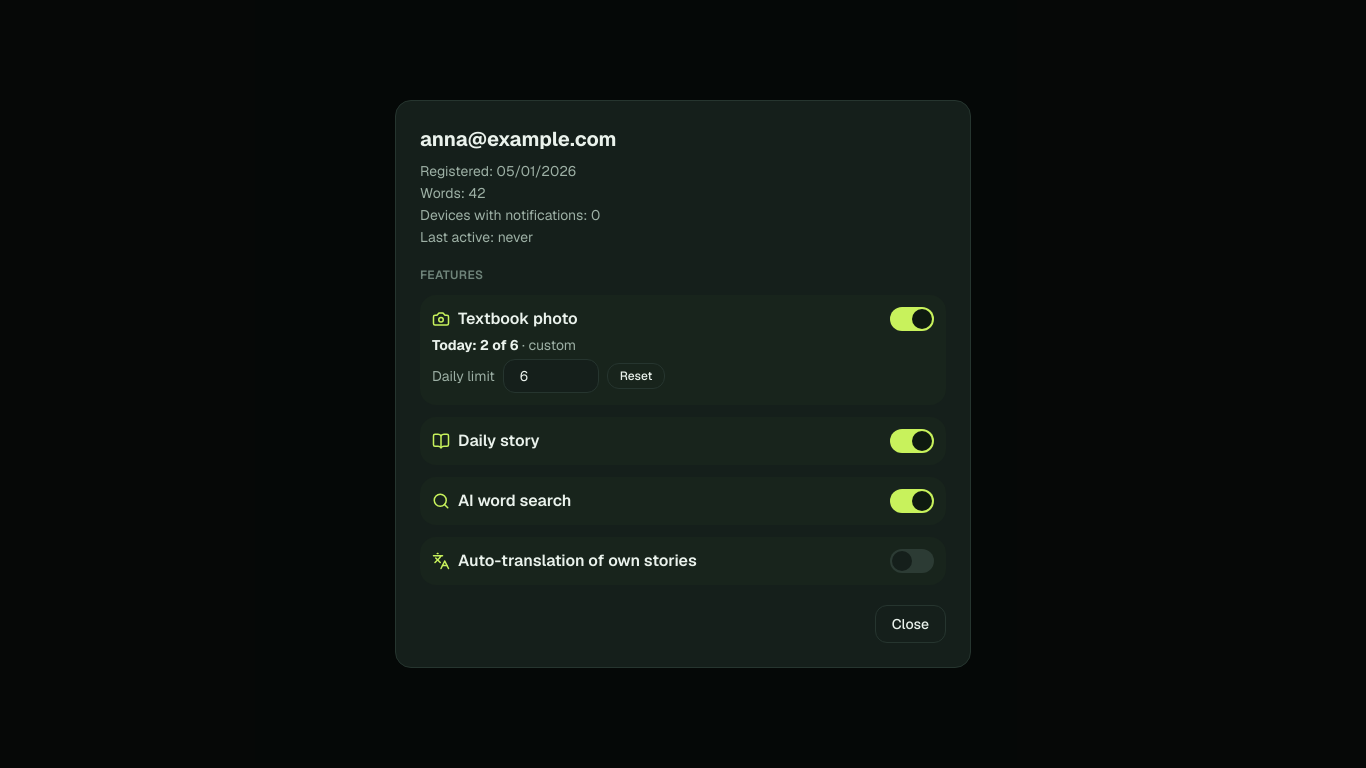
AdminUserModal › a failed save shows the error and keeps the old state
What coordinates should you click on to do the following:
click the switch named "Daily story"
I would click on:
 (912, 441)
Its box is x1=890 y1=429 x2=934 y2=453.
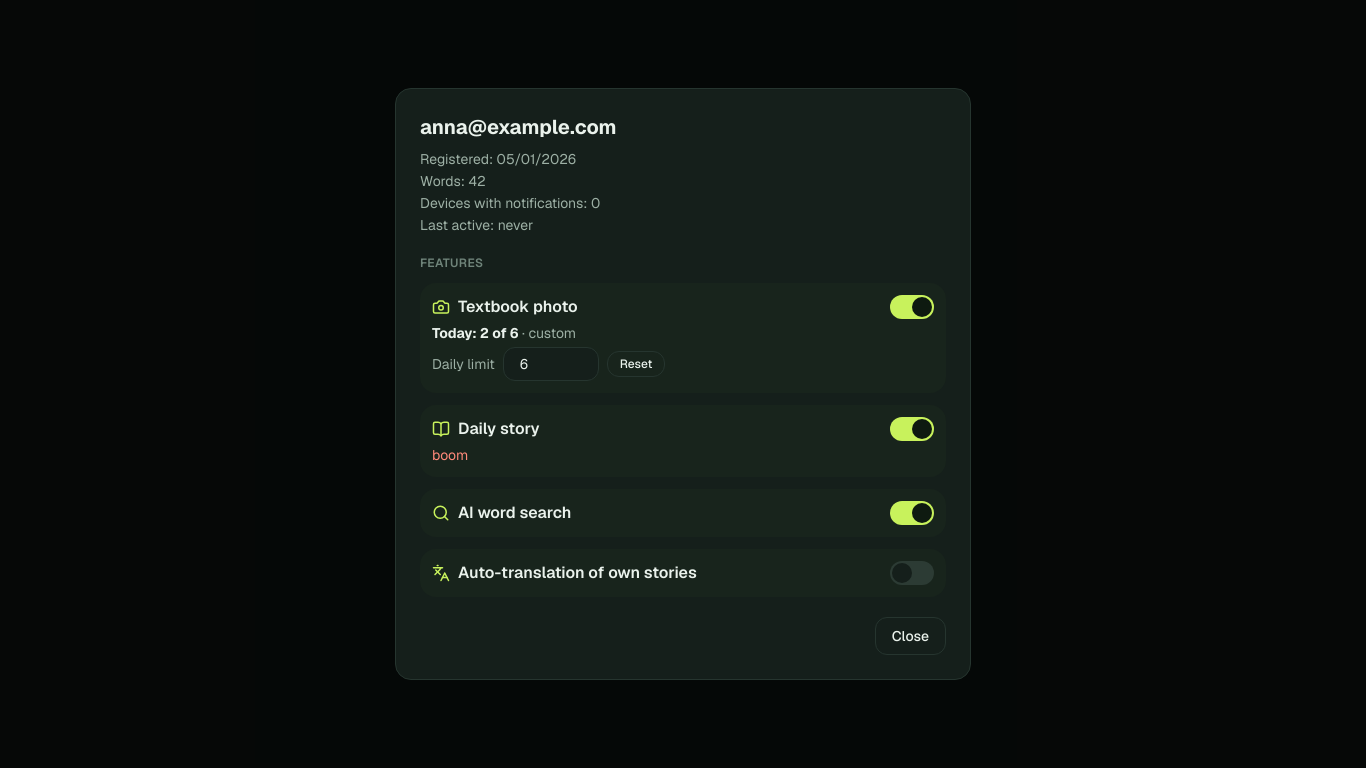
Now the message "boom" is shown, box x1=432 y1=446 x2=468 y2=464
